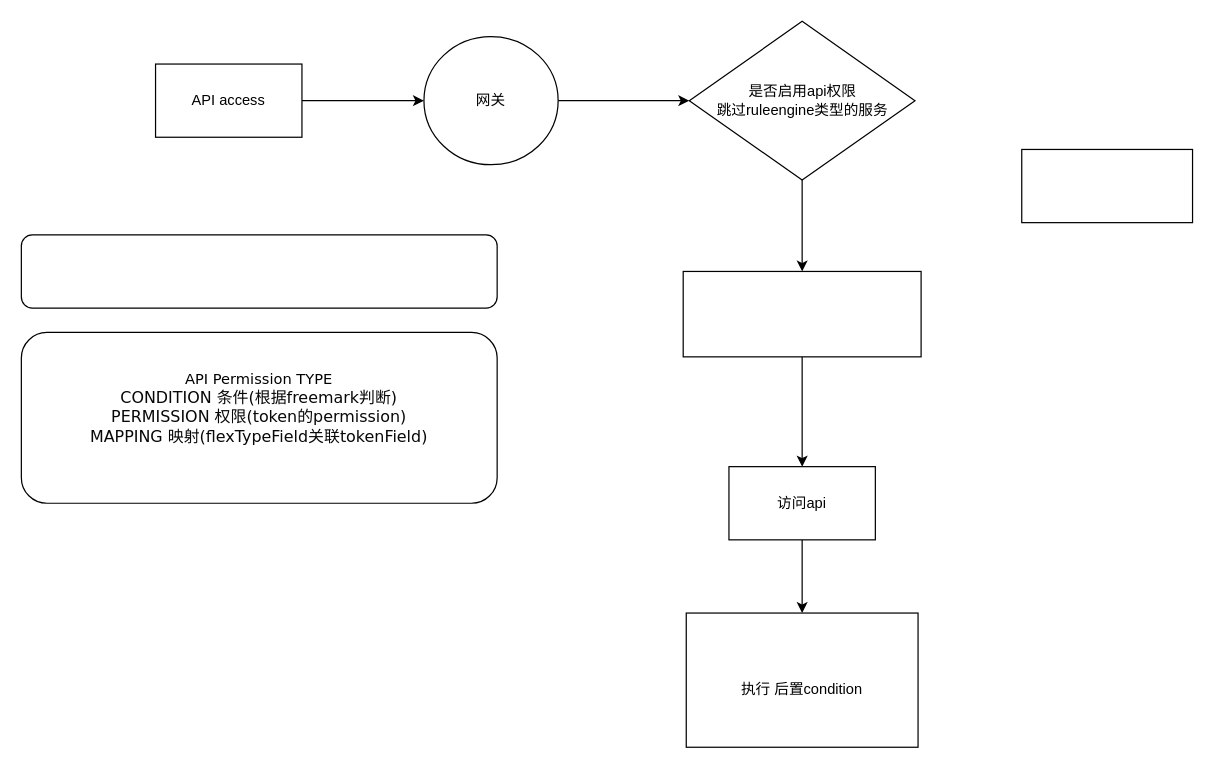
The diagram is 1214 pixels wide and 769 high, and some of its shapes have lost their labels. Each missing label, with the centre of its shape:
apiproduct类型服务api会继承权限: point 1107,185
执行 permission 执行 前置condition: point 801,313
条件类型新增 多选项 前置 , 后置: point 258,271
